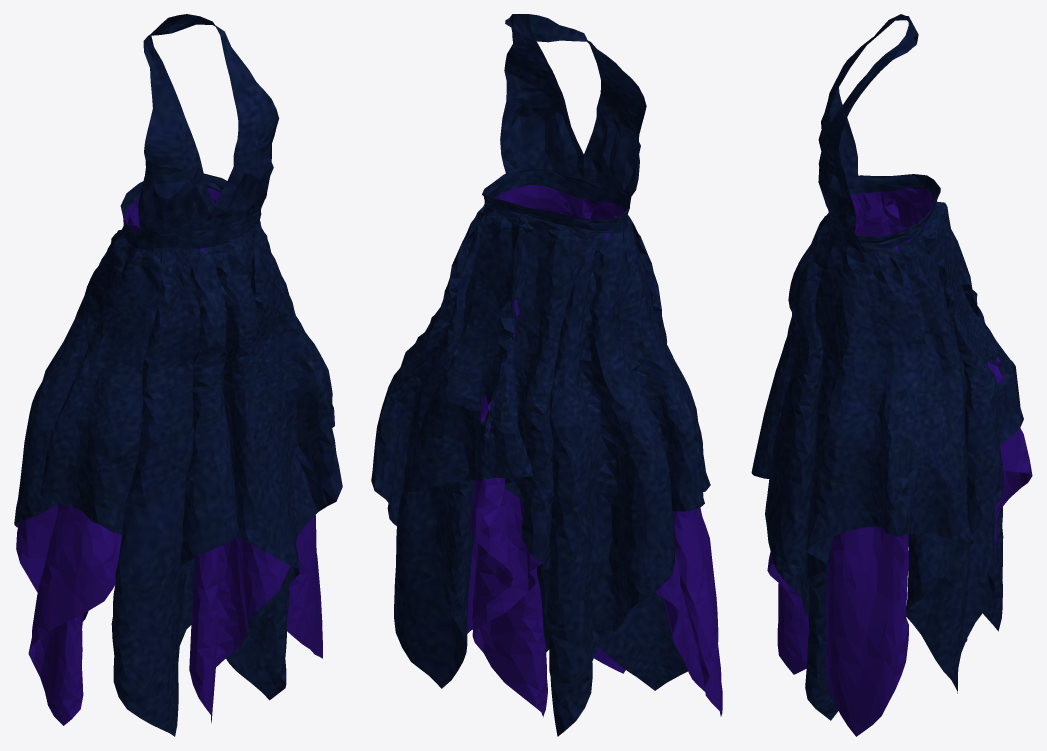
The model's file is mhw_elvs_double_handkerchief_halter_dress.glb.
The picture shows the model from 3 angles, left to right: view 1: azimuth 30°, elevation 25°; view 2: azimuth 150°, elevation 25°; view 3: azimuth 270°, elevation 25°; orthographic projection. The views are drawn at different scales.
Parts seen in each view (by area): view 1: mhw_elvs_double_handkerchief_halter_dress; view 2: mhw_elvs_double_handkerchief_halter_dress; view 3: mhw_elvs_double_handkerchief_halter_dress.
Boxes of the visible parts, x1=… form: mhw_elvs_double_handkerchief_halter_dress: x1=14, y1=14, x2=342, y2=736; mhw_elvs_double_handkerchief_halter_dress: x1=371, y1=14, x2=722, y2=736; mhw_elvs_double_handkerchief_halter_dress: x1=751, y1=14, x2=1032, y2=736.
Size of the model in its own units: 0.7424 by 1.55 by 0.5841.
Materials: 1 (1 with a texture image).
